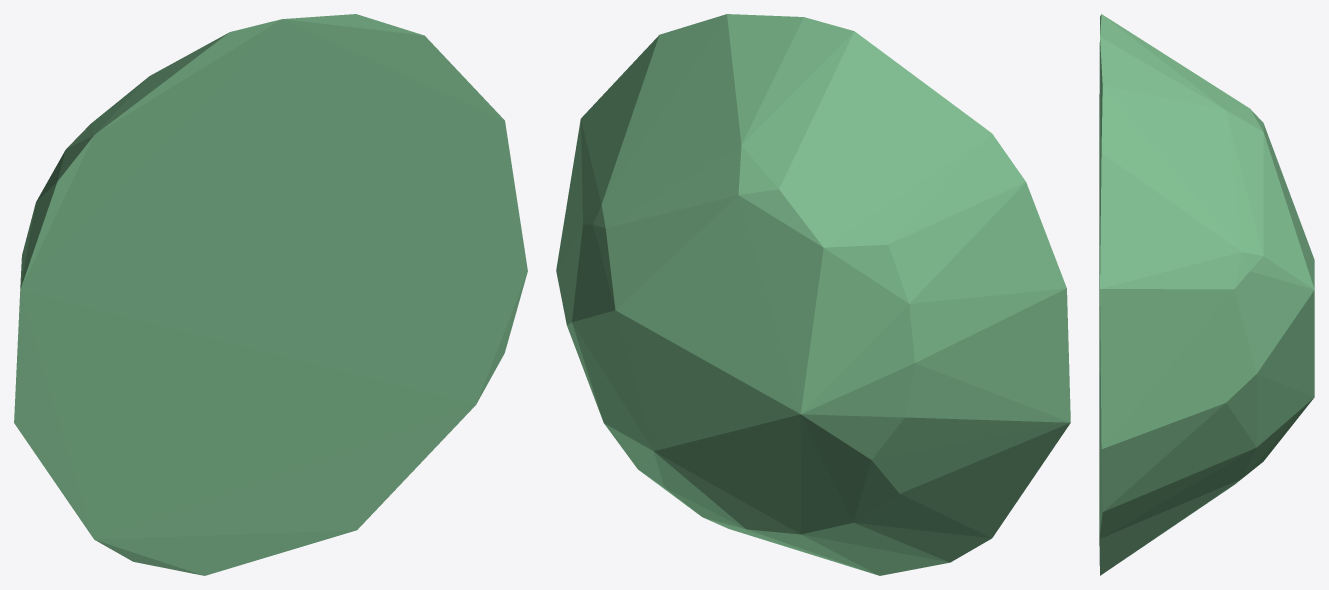
The model's file is kitchenware_bowl_r01.glb.
The picture shows the model from 3 angles, left to right: view 1: azimuth 30°, elevation 25°; view 2: azimuth 150°, elevation 25°; view 3: azimuth 270°, elevation 25°; orthographic projection. The views are drawn at different scales.
Parts seen in each view (by area): view 1: geometry_0; view 2: geometry_0; view 3: geometry_0.
Boxes of the visible parts, x1,y1,x2,y2 form: geometry_0: (14,14,527,575); geometry_0: (556,14,1070,575); geometry_0: (1099,14,1314,575).
Size of the model in its own units: 0.4708 by 0.4716 by 0.1793.
